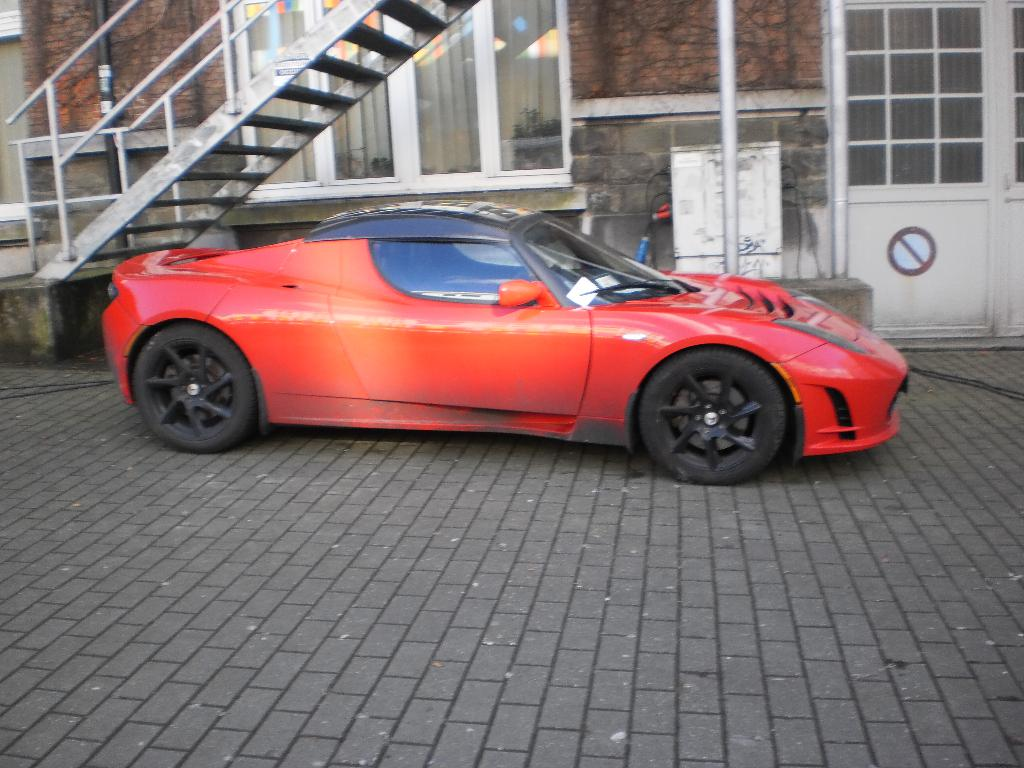Car: (100, 199, 908, 485)
